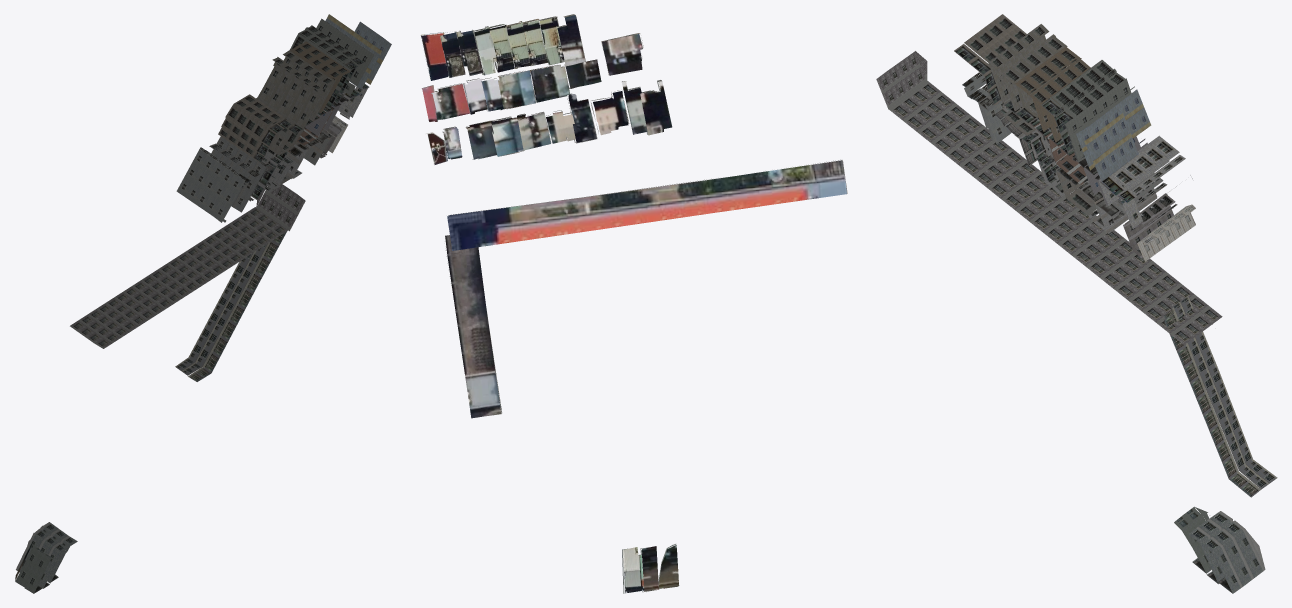
File: tile_LOD4_r4_c7.glb
3 views of the same model, side by side, from view 1: azimuth 30°, elevation 25°; view 2: azimuth 150°, elevation 25°; view 3: azimuth 270°, elevation 25° (orthographic). The views are drawn at different scales.
Bounding box in the file's own units: 133 × 175 × 98.5.
109 materials, 109 textured.
